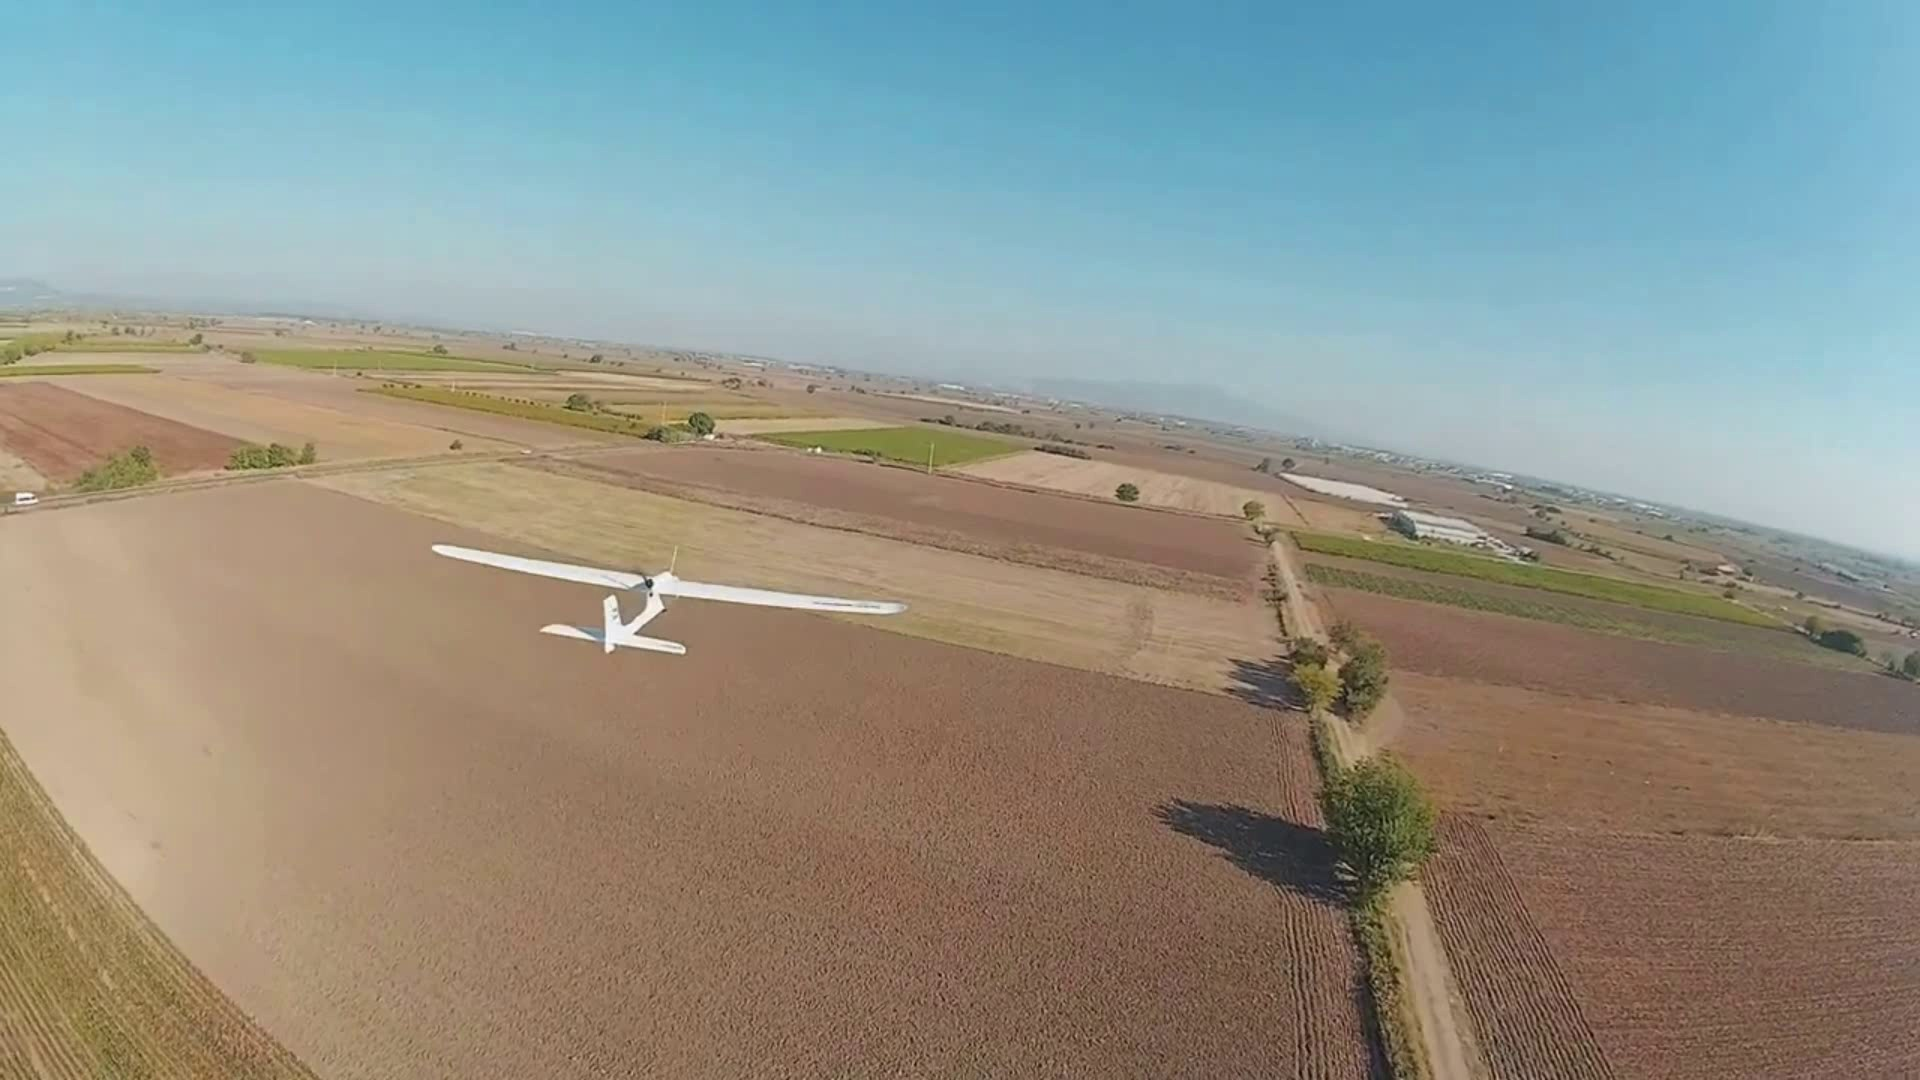airplane: (431, 537, 904, 660)
